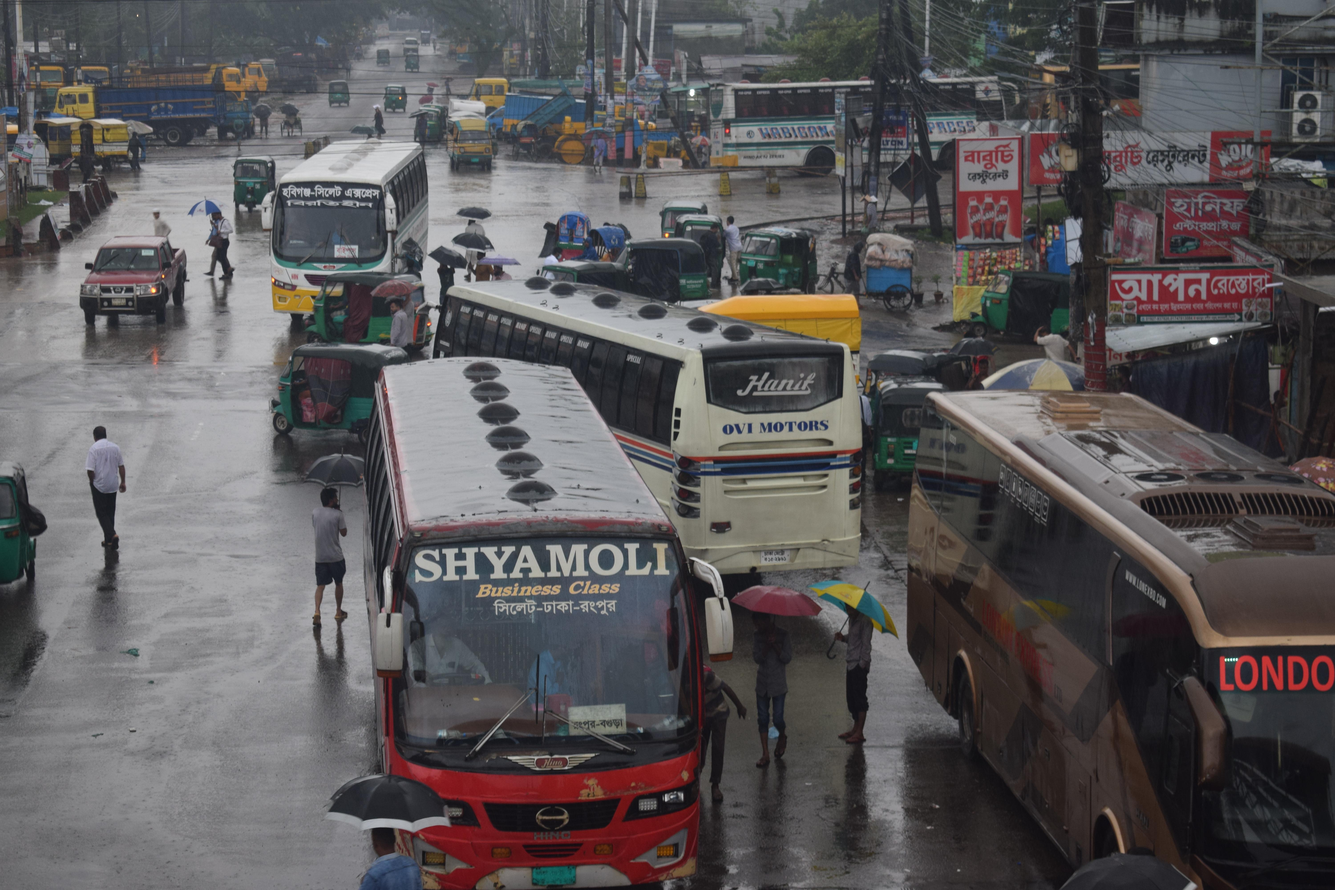Bus: (298, 332, 737, 890), (873, 367, 1335, 890), (413, 255, 893, 624), (242, 103, 460, 341), (682, 60, 1036, 200)
Car: (59, 224, 217, 344), (438, 107, 509, 179)
Truck: (39, 72, 259, 146)
